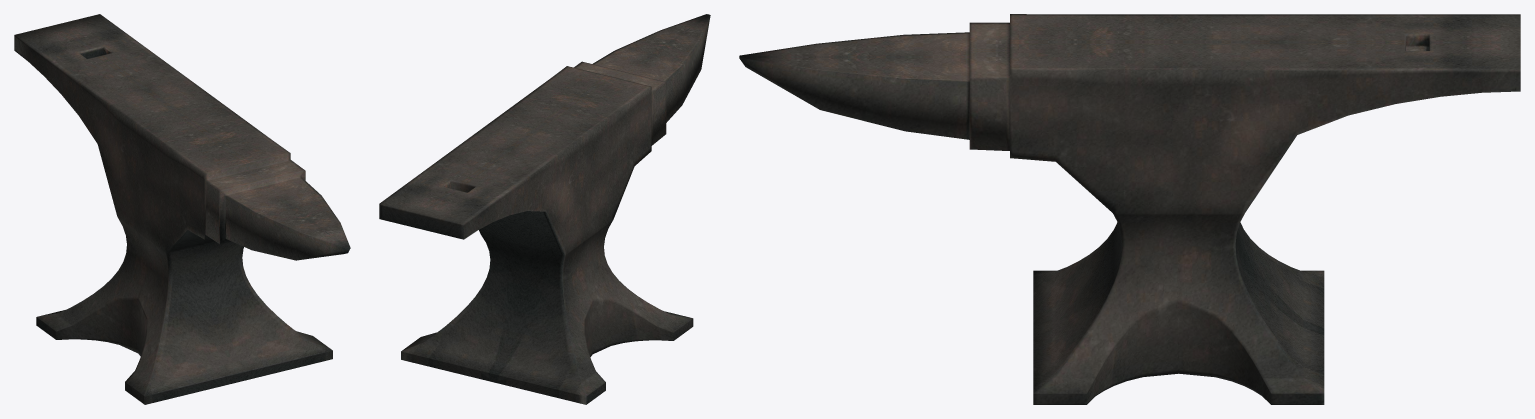
Rendered from Amboss.fbx.
The picture shows the model from 3 angles, left to right: view 1: azimuth 30°, elevation 25°; view 2: azimuth 150°, elevation 25°; view 3: azimuth 270°, elevation 25°; orthographic projection. The views are drawn at different scales.
Visible parts, largest first — view 1: Amboss.002; view 2: Amboss.002; view 3: Amboss.002.
Part boxes in pixels (left/top/right/bottom): Amboss.002: left=14, top=14, right=350, bottom=404; Amboss.002: left=379, top=14, right=710, bottom=404; Amboss.002: left=739, top=14, right=1520, bottom=404.
Size of the model in its own units: 43.72 by 50.02 by 117.
Materials: 1 (1 with a texture image).
